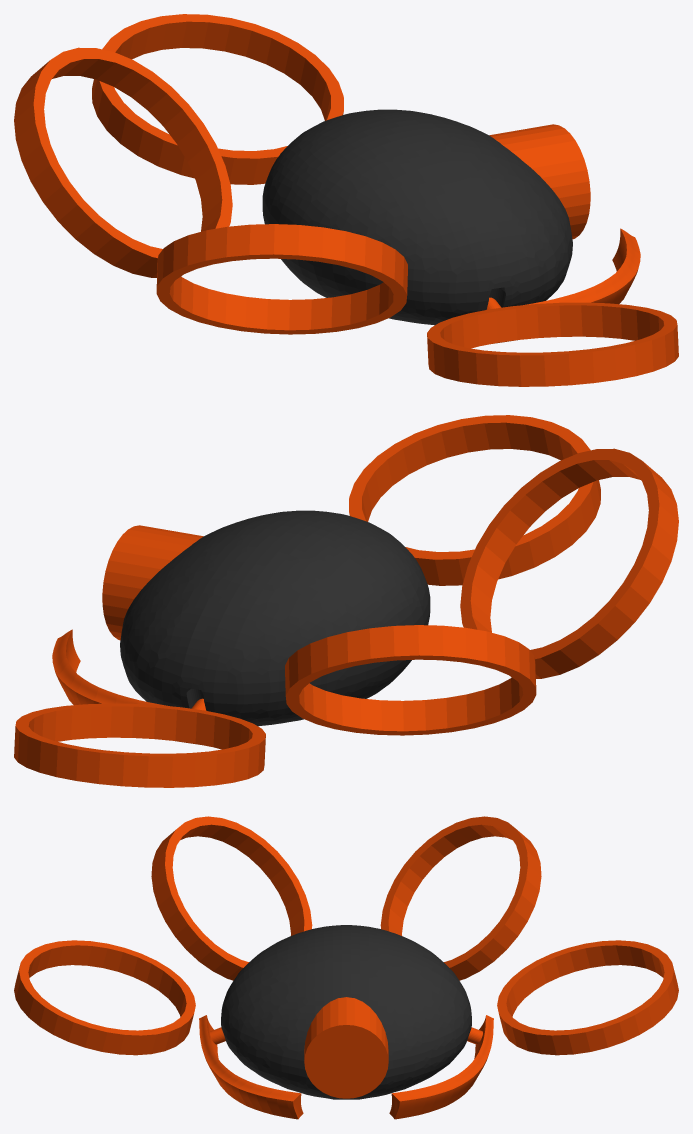
The model's file is obj-drone.fbx.
3 renders of one model, top to bottom at view 1: azimuth 30°, elevation 25°; view 2: azimuth 150°, elevation 25°; view 3: azimuth 270°, elevation 25°, orthographic. The views are drawn at different scales.
Parts seen in each view (by area): view 1: body, back fans, front fans, eye, arms; view 2: body, back fans, front fans, eye, arms; view 3: body, front fans, back fans, eye, arms.
Boxes of the visible parts, <box> form: body: <box>262,109,572,325</box>; back fans: <box>14,47,407,334</box>; front fans: <box>92,14,678,386</box>; eye: <box>489,124,590,239</box>; arms: <box>494,228,640,343</box>; body: <box>120,510,430,726</box>; back fans: <box>285,448,678,735</box>; front fans: <box>14,415,600,787</box>; eye: <box>102,525,203,640</box>; arms: <box>52,629,198,744</box>; body: <box>221,925,471,1099</box>; front fans: <box>14,940,678,1055</box>; back fans: <box>151,816,541,980</box>; eye: <box>304,997,388,1098</box>; arms: <box>199,1015,493,1119</box>.
Bounding box in the file's own units: 461 × 195 × 734.
